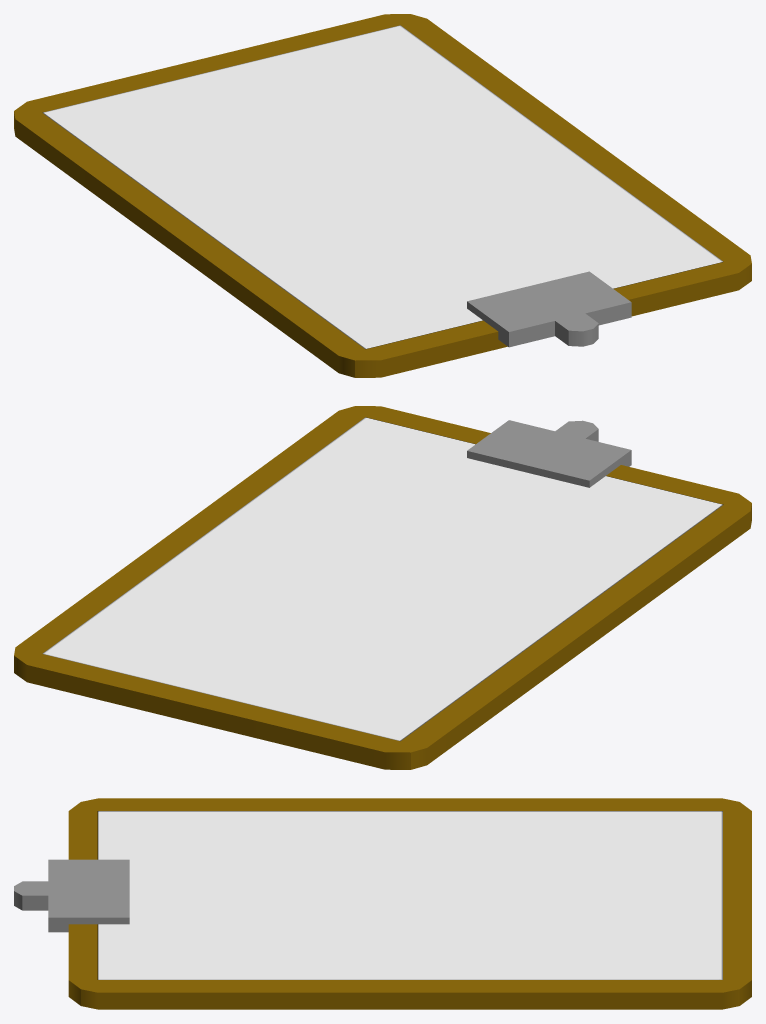
The model's file is Clipboard.fbx.
The picture shows the model from 3 angles, top to bottom: view 1: azimuth 30°, elevation 25°; view 2: azimuth 150°, elevation 25°; view 3: azimuth 270°, elevation 25°; orthographic projection. The views are drawn at different scales.
Parts seen in each view (by area): view 1: Clipboard, pCube2; view 2: Clipboard, pCube2; view 3: Clipboard, pCube2.
Part boxes in pixels (x1,y1,x2,y2): Clipboard: (14,14,751,377); pCube2: (467,271,631,347); Clipboard: (14,406,751,769); pCube2: (467,420,631,487); Clipboard: (68,798,751,1009); pCube2: (14,859,129,932).
Size of the model in its own units: 0.6726 by 0.0384 by 1.08.
Materials: 1 (1 with a texture image).
